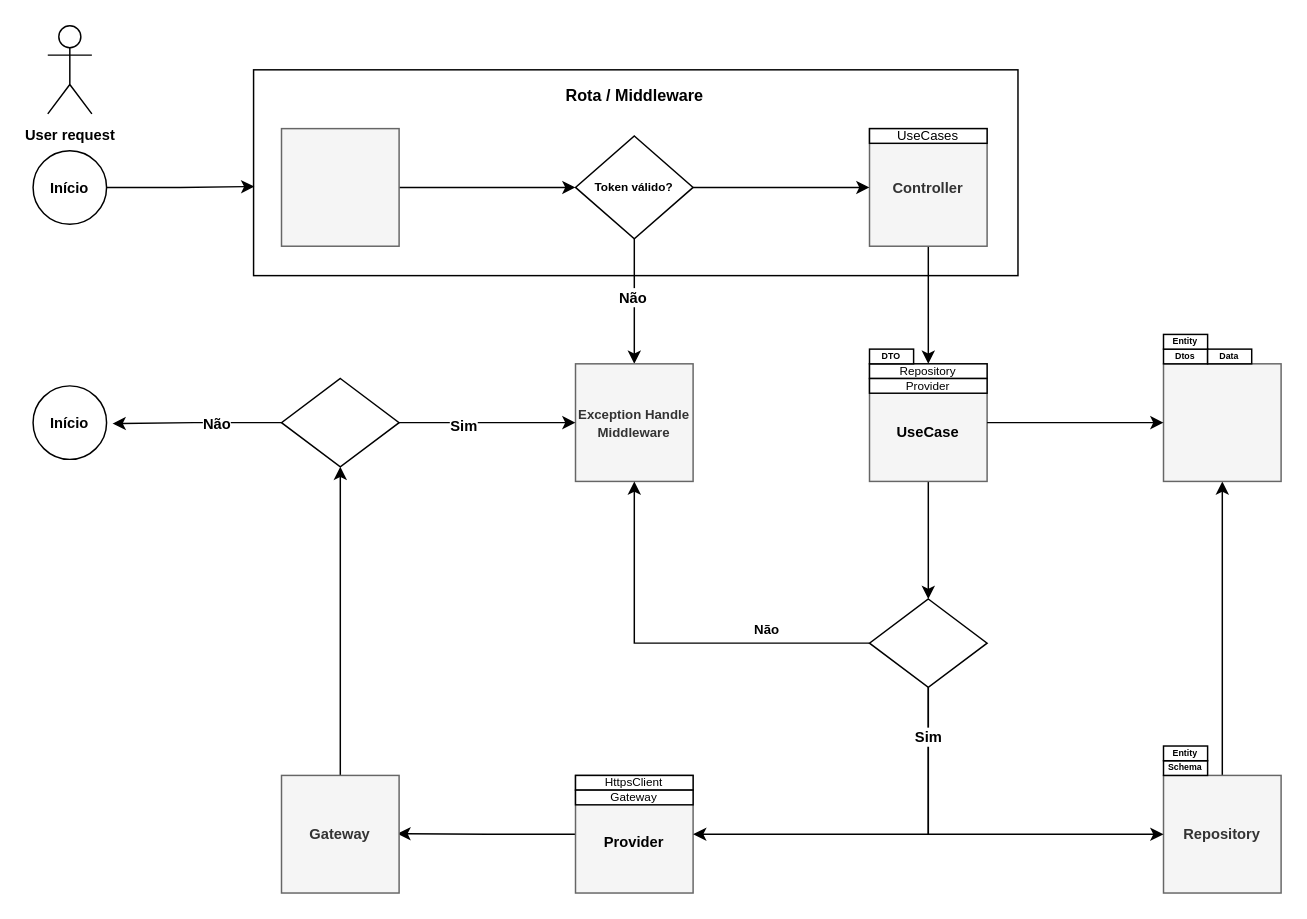
Some shapes in this 1307 by 919 pixel diagram are drawn without their labels. Each missing label, with the centre of its shape:
"Authorization" belongs at (x=339, y=186).
"Dto válido?" belongs at (x=927, y=642).
"Erro na requisição?" belongs at (x=339, y=422).
"Mapper" belongs at (x=1221, y=421).
